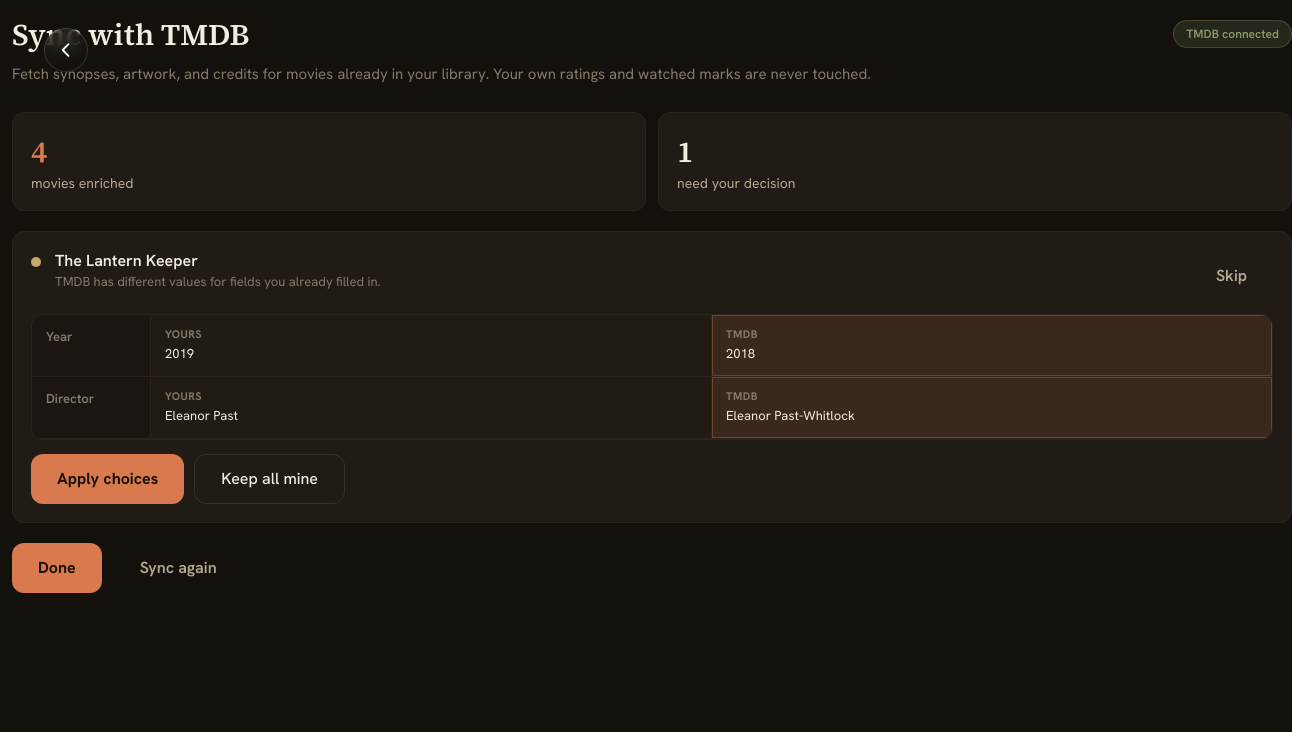
Test: EnrichmentFlow — Apply choices › raises Details updated.
The image size is (1292, 732).
Expected: the text "TMDB has different values for fields you already filled in." is shown, [55,273,381,290]
Click the button "Apply choices".
click(108, 479)  # box [31,454,184,504]
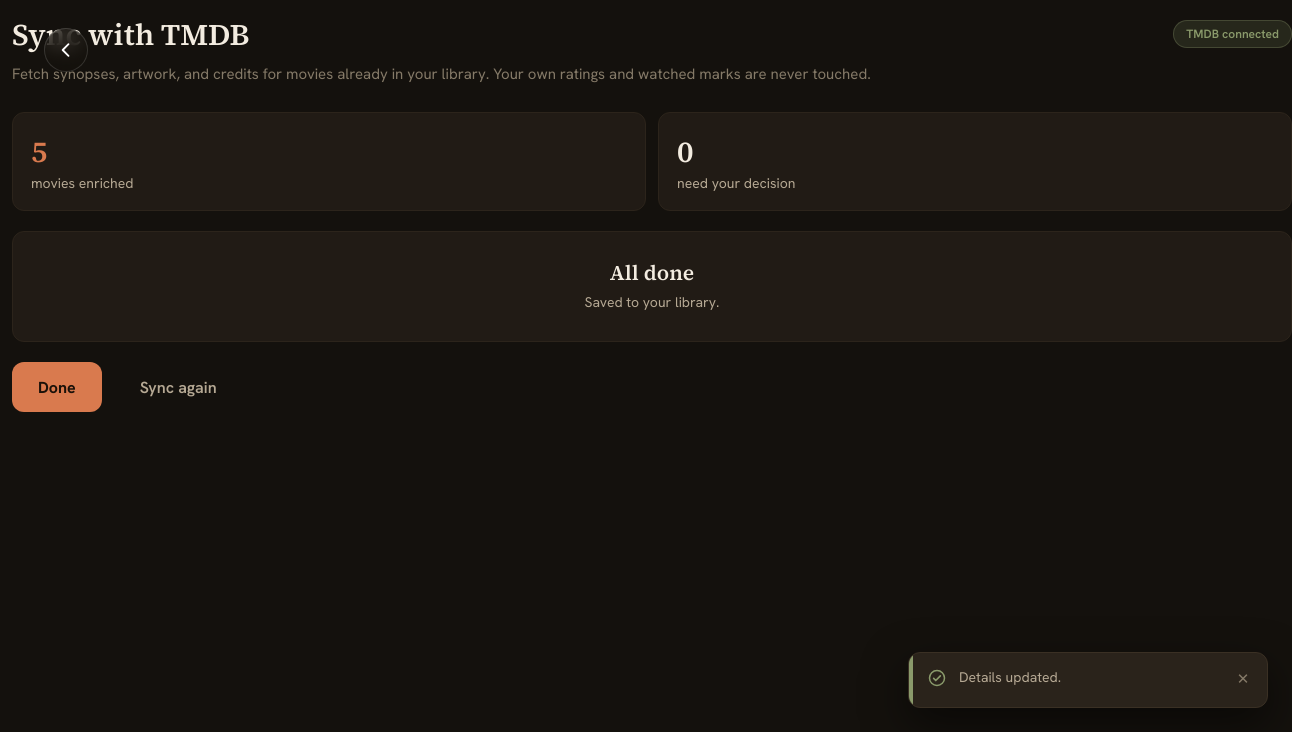
Result: the text "Details updated." is shown at [959,668,1061,686]
